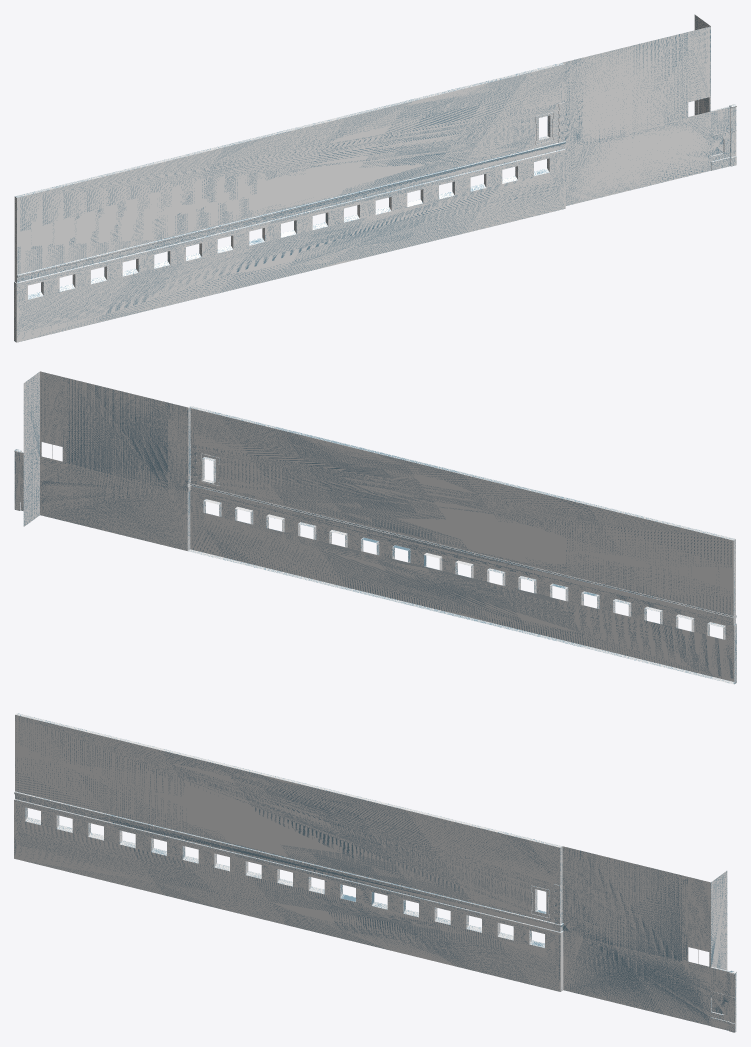
File: Clinic.fbx
The picture shows the model from 3 angles, top to bottom: view 1: azimuth 30°, elevation 25°; view 2: azimuth 150°, elevation 25°; view 3: azimuth 330°, elevation 25°; orthographic projection.
Parts seen in each view (by area): view 1: Model; view 2: Model; view 3: Model.
Boxes of the visible parts, x1,y1,x2,y2 form: Model: (14,14,736,342); Model: (14,371,736,684); Model: (14,713,736,1032).
Bounding box in the file's own units: 31960 × 6108 × 1490.
